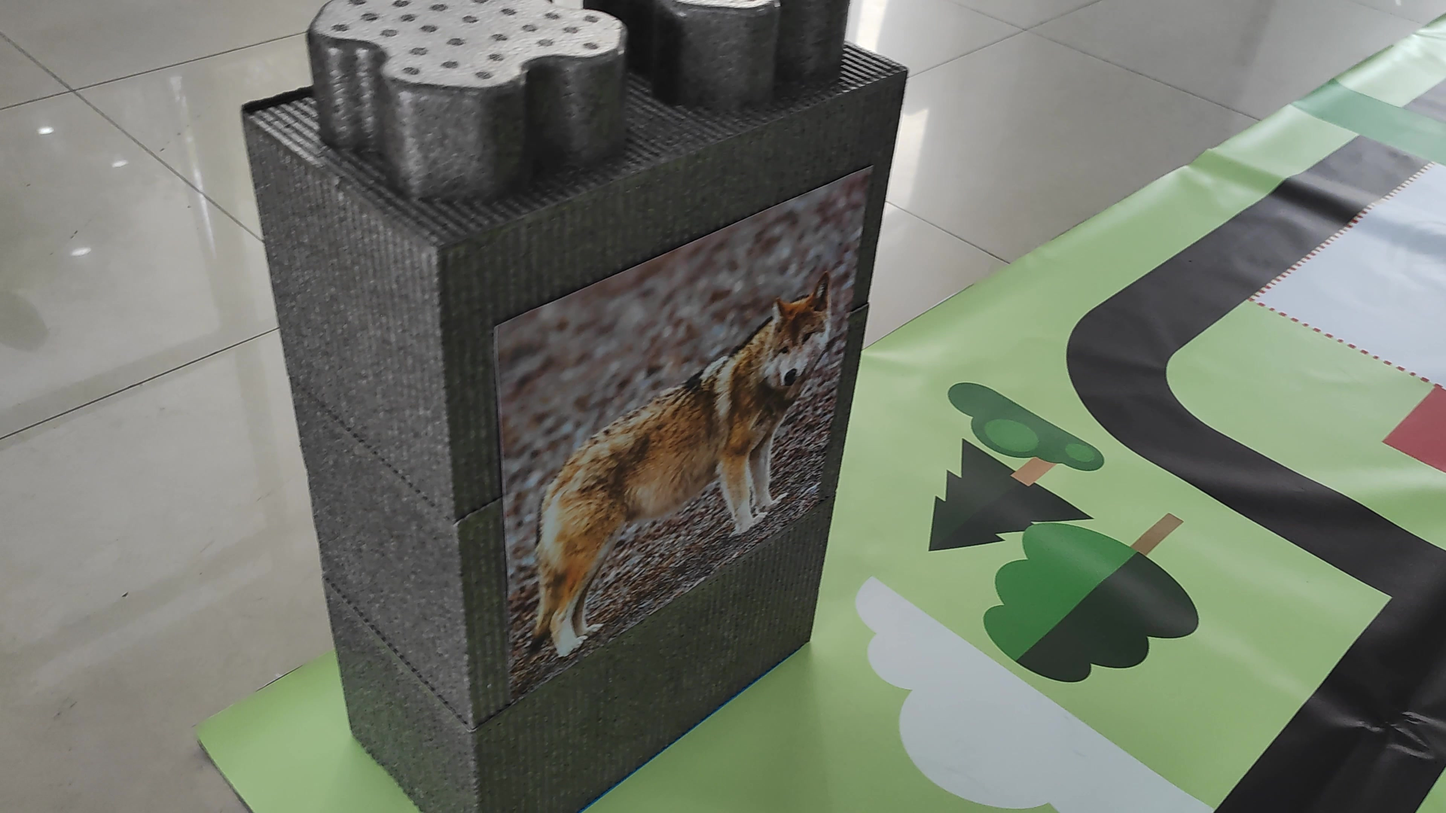wolf: (506, 256, 820, 681)
